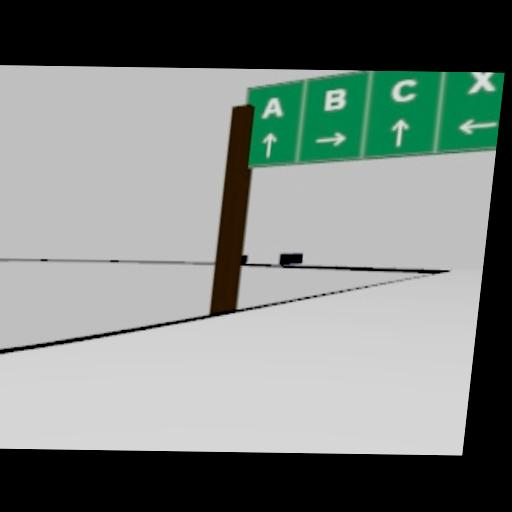A: (260, 95, 285, 117)
B: (322, 86, 347, 110)
C: (390, 77, 420, 101)
Left: (455, 116, 498, 134)
Right: (315, 130, 348, 146)
Straight: (390, 118, 410, 145), (260, 131, 277, 156)
X: (467, 71, 498, 91)
